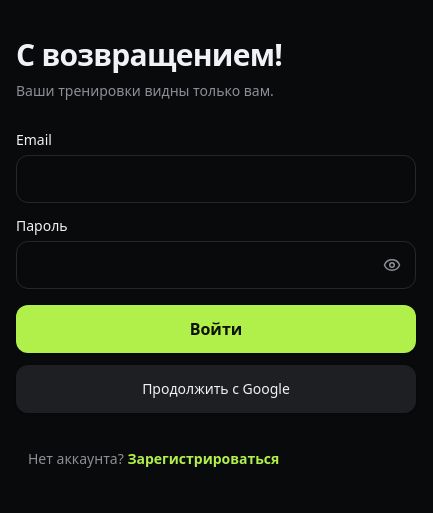
shows a Russian Google returned error and allows retry
Click the button "Продолжить с Google" at [216, 389], box [16,365,416,413]
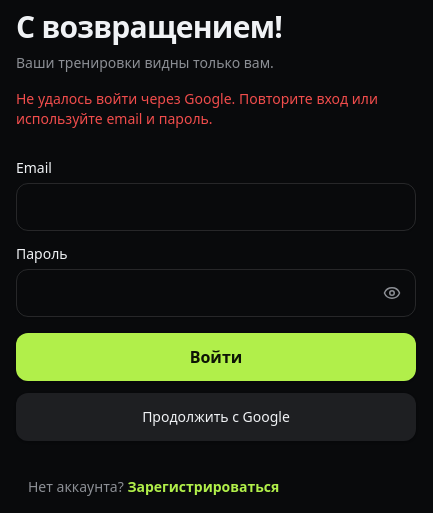
Expected: the button "Продолжить с Google" is enabled, [16,393,416,441]
Expected: the message shows "Не удалось войти через Google", [16,89,378,128]
